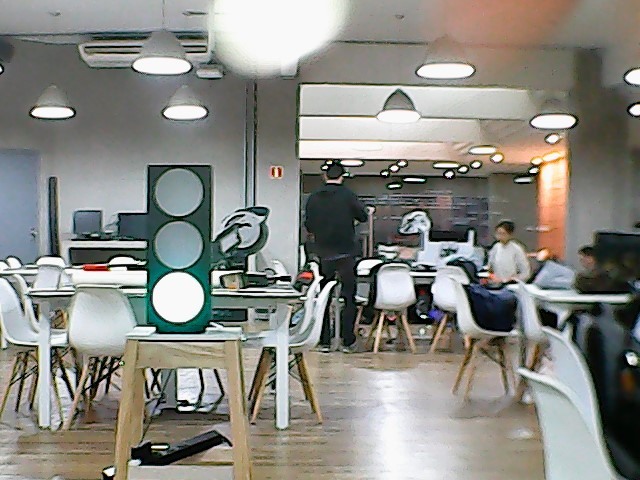verde: (143, 159, 217, 337)
